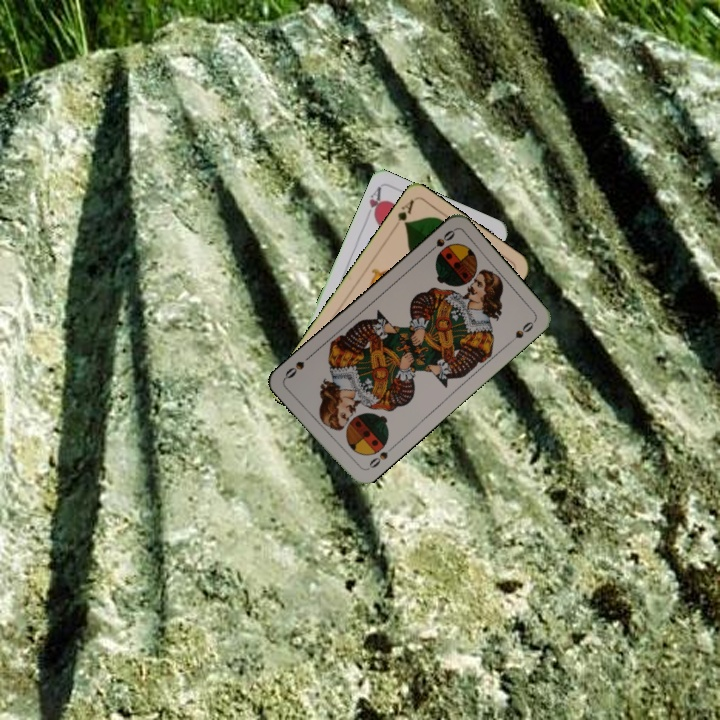GA: (393, 196, 416, 229)
HA: (362, 183, 386, 223)
SO: (423, 226, 458, 257), (362, 447, 391, 473)
